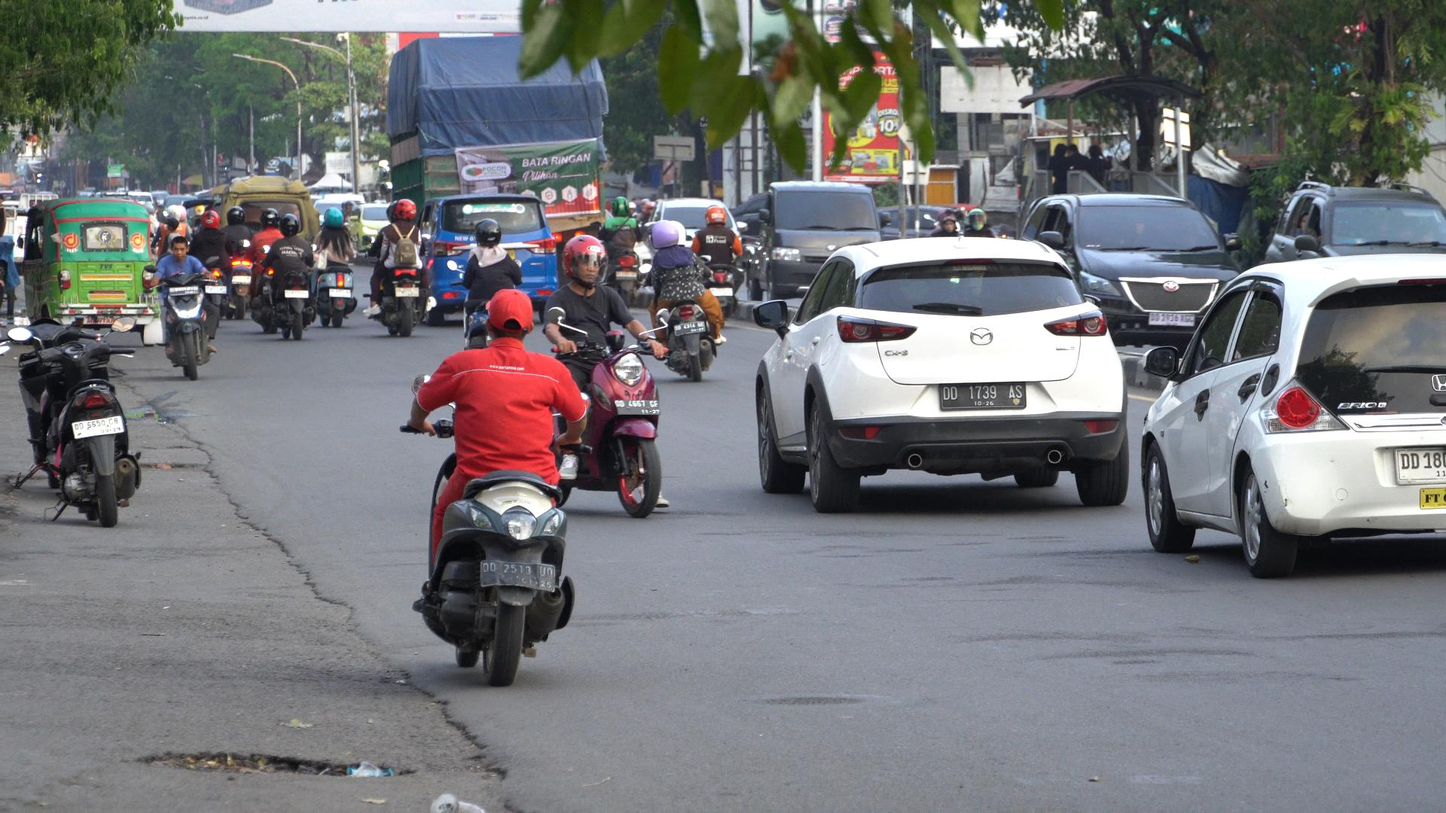number-plate: (614, 393, 661, 417)
